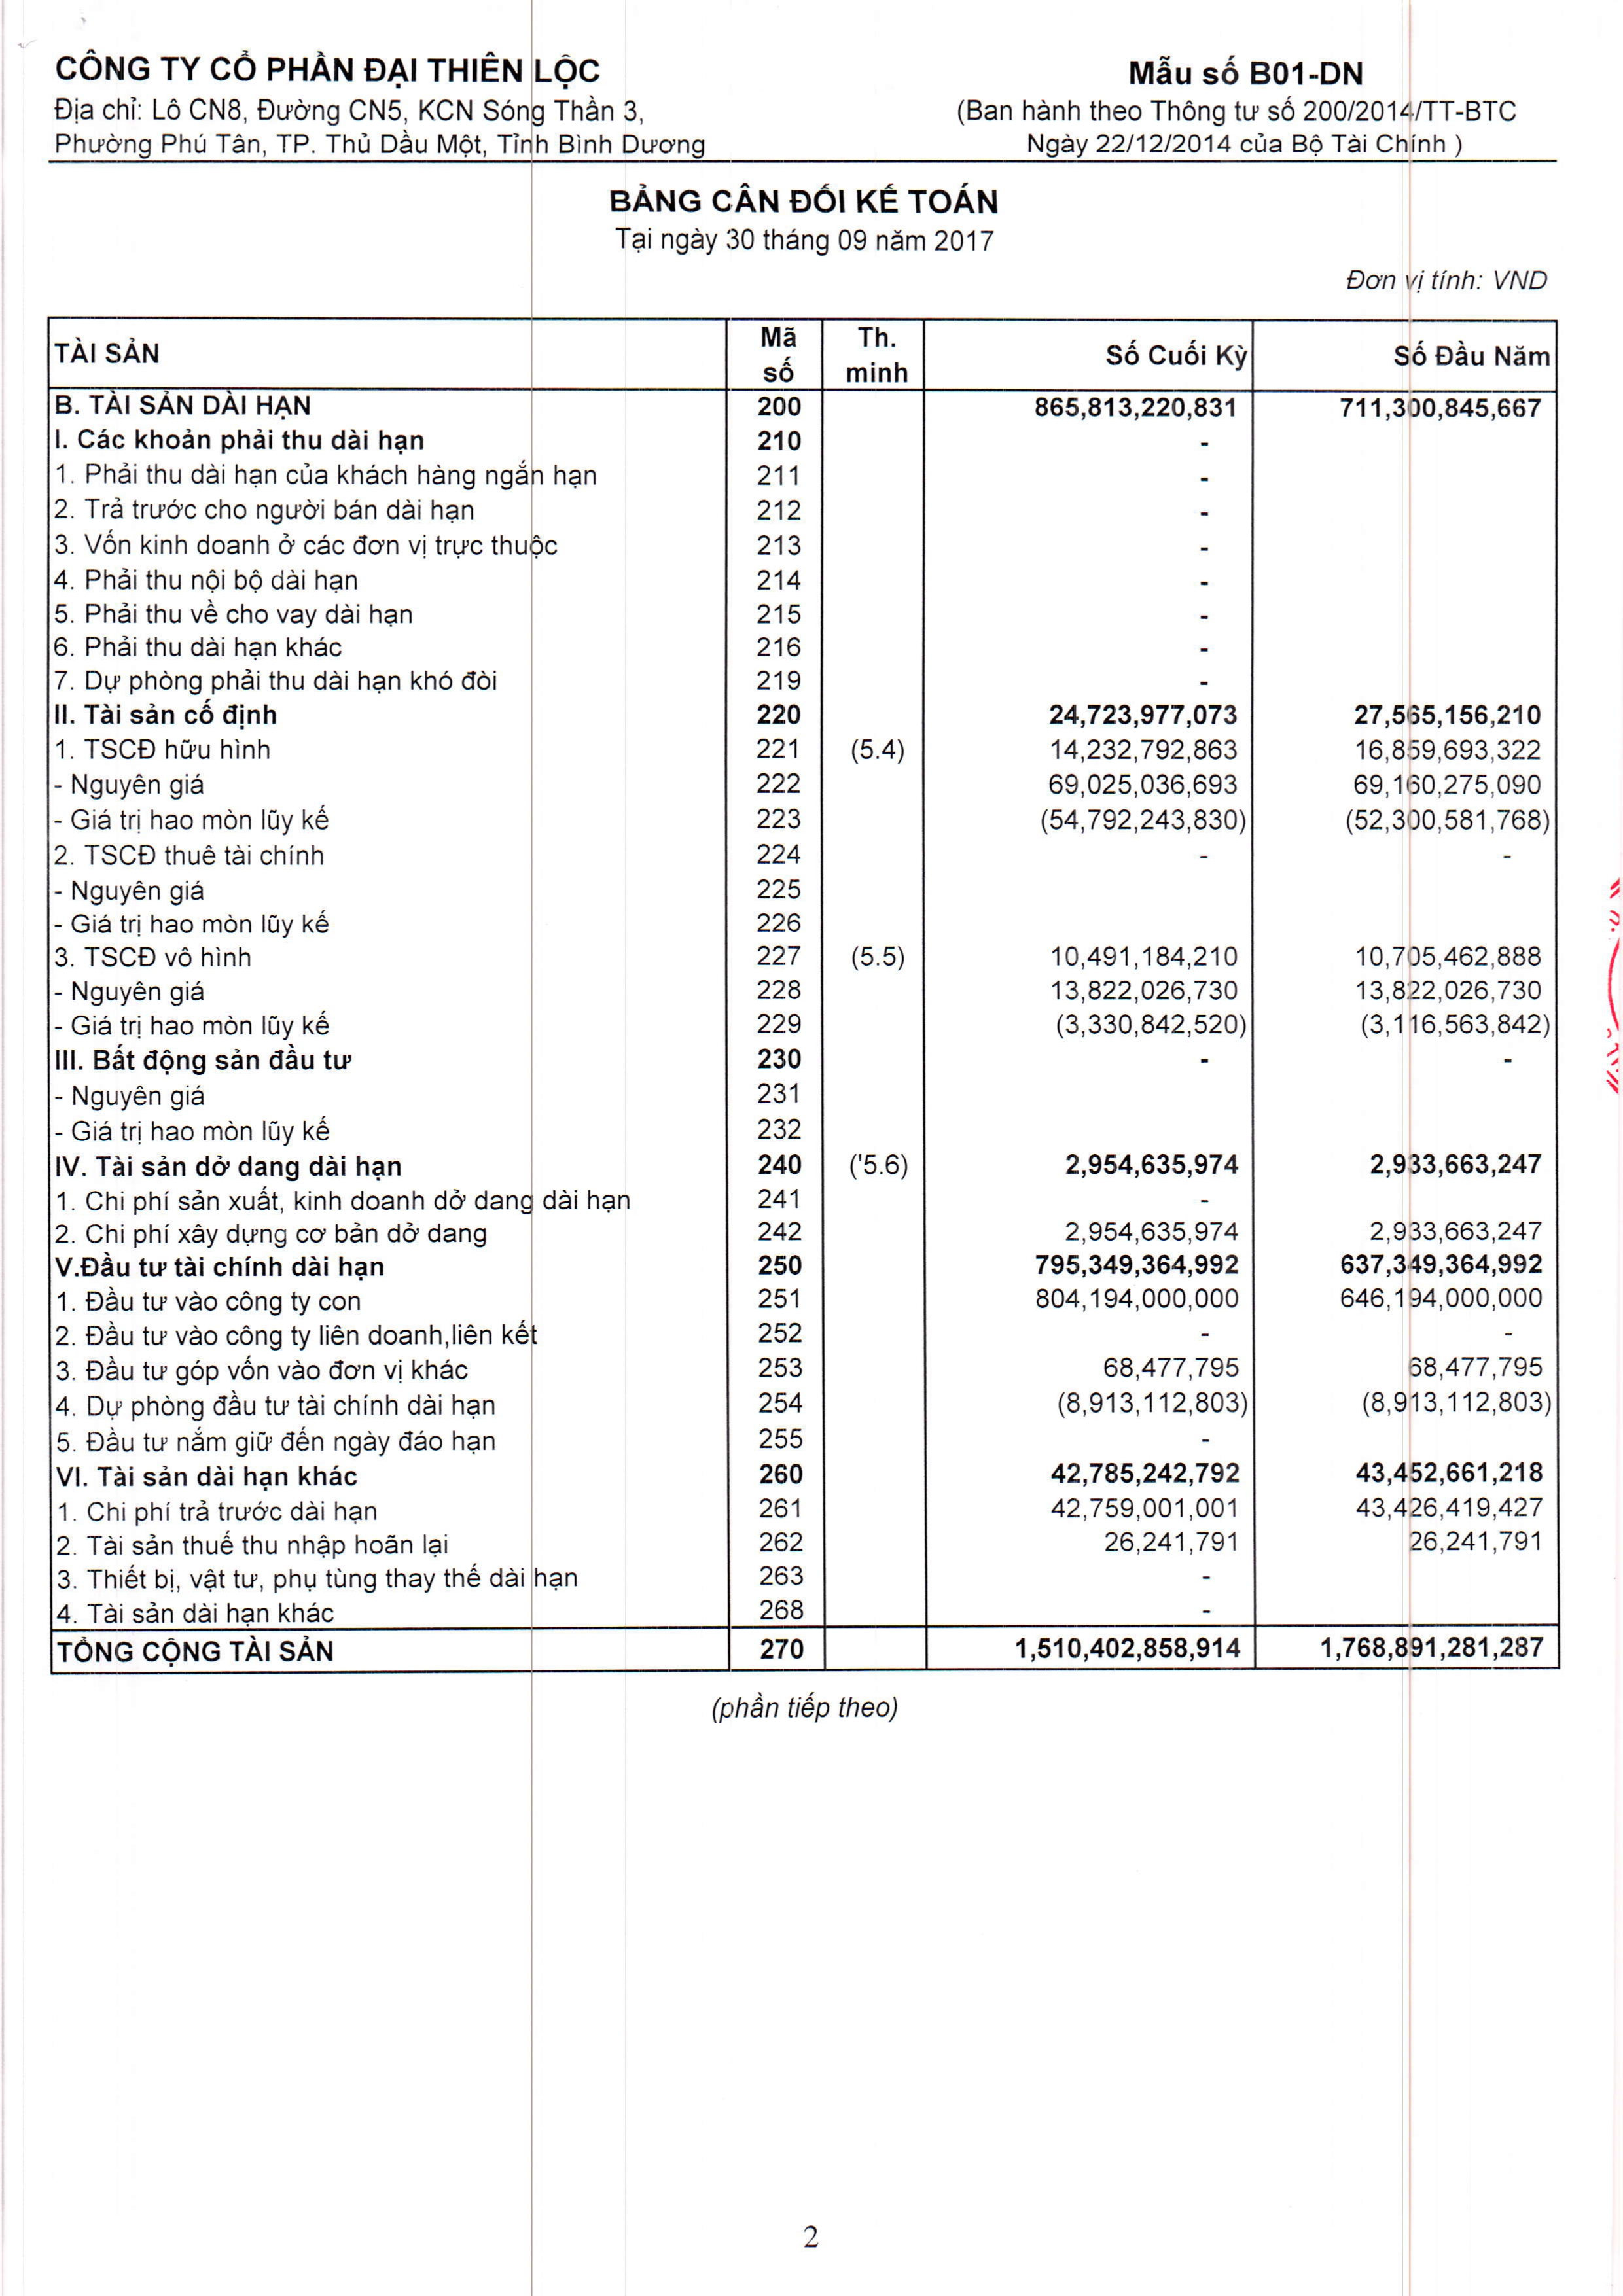table: (33, 305, 1574, 1685)
table column: (49, 305, 641, 1685), (994, 305, 1259, 1685), (1296, 305, 1562, 1685), (833, 305, 915, 1685), (739, 305, 820, 1685)
table column header: (33, 316, 1574, 398)
table row: (33, 326, 1574, 386), (33, 728, 1574, 764), (33, 932, 1574, 967), (33, 1034, 1574, 1069), (33, 1071, 1574, 1106), (33, 1239, 1574, 1274), (33, 1274, 1574, 1309), (33, 1625, 1574, 1661), (33, 390, 1574, 423), (33, 425, 1574, 458), (33, 1311, 1574, 1345), (33, 1346, 1574, 1380), (33, 1381, 1574, 1415), (33, 1417, 1574, 1450), (33, 1518, 1574, 1552), (33, 460, 1574, 491), (33, 558, 1574, 590), (33, 625, 1574, 657), (33, 660, 1574, 692), (33, 693, 1574, 725), (33, 765, 1574, 797), (33, 832, 1574, 864), (33, 1208, 1574, 1239), (33, 1452, 1574, 1483), (33, 1485, 1574, 1517), (33, 495, 1574, 525), (33, 527, 1574, 556), (33, 592, 1574, 621), (33, 800, 1574, 830), (33, 867, 1574, 897), (33, 900, 1574, 930), (33, 967, 1574, 997), (33, 1002, 1574, 1032), (33, 1108, 1574, 1137), (33, 1141, 1574, 1171), (33, 1173, 1574, 1202), (33, 1553, 1574, 1583), (33, 1589, 1574, 1618)
